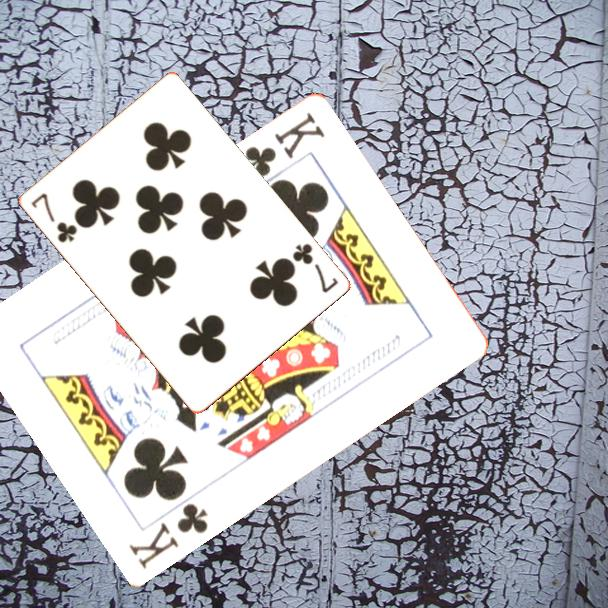c07: (27, 189, 80, 246), (289, 240, 341, 296)
c13: (241, 107, 328, 180), (125, 498, 212, 571)
